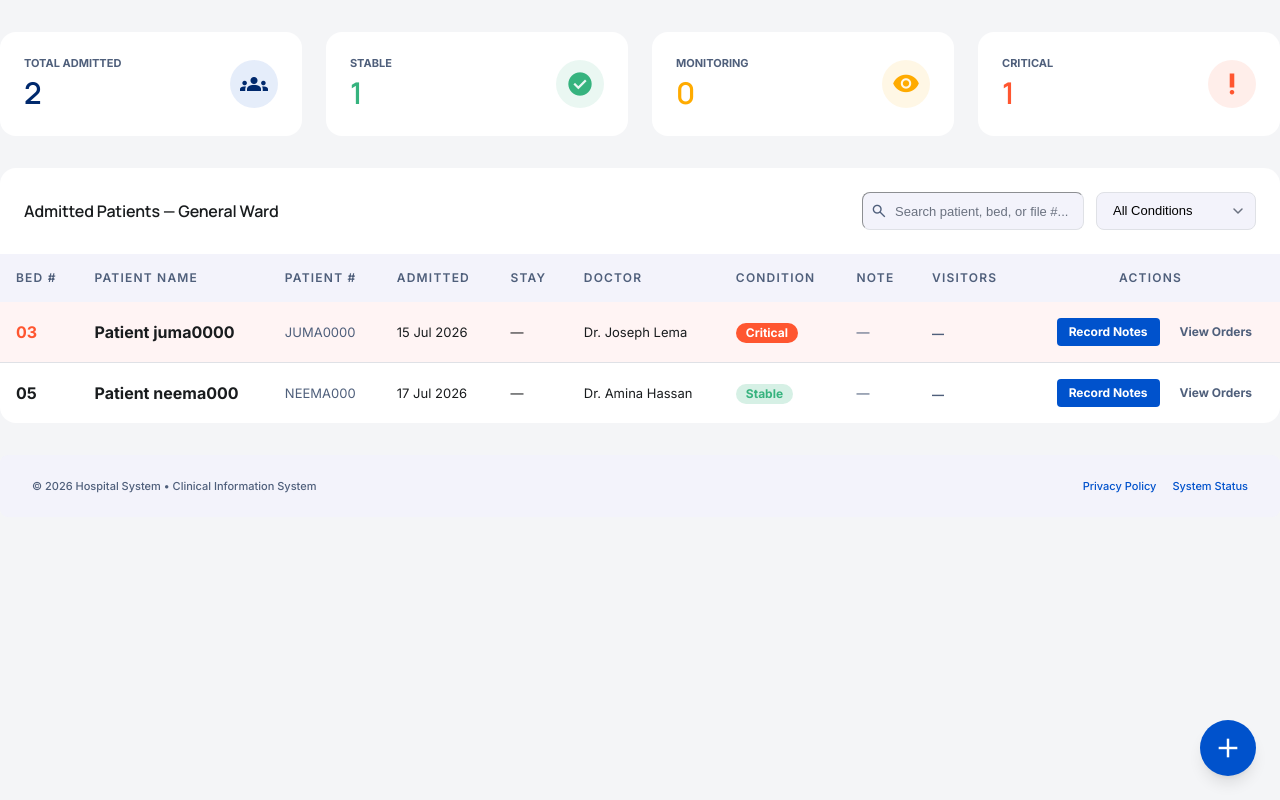
MyPatientsPage › filters patient rows based on condition dropdown selection
Expected: the text "Patient juma0000" is shown, [78, 302, 269, 362]
Select "Critical" in the dropdown at [1176, 211], box [1096, 192, 1256, 230]
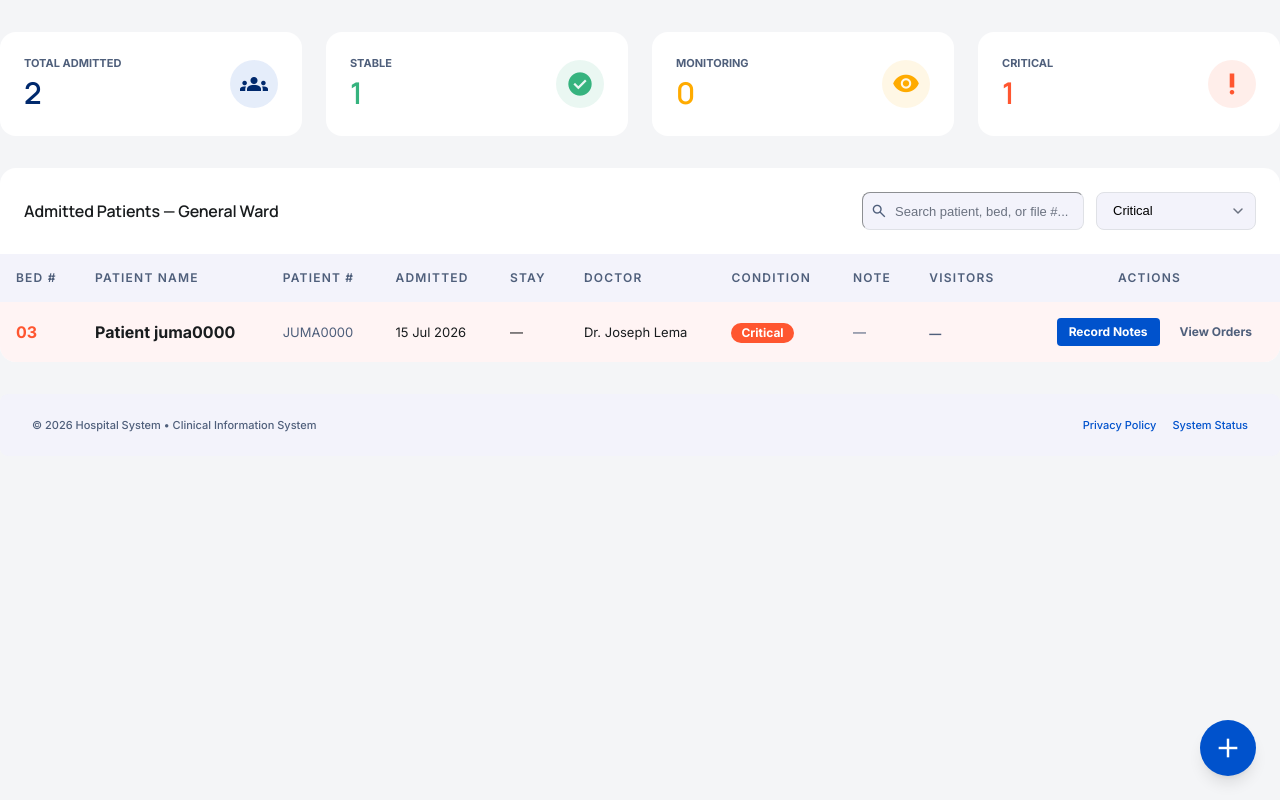
Expected: the text "Patient juma0000" is shown, [79, 302, 267, 362]
Expected: the text "Patient neema000" is gone
